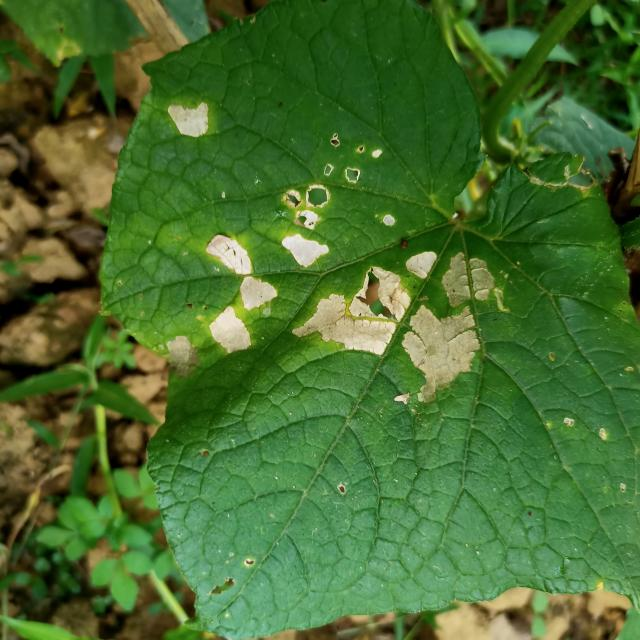disease_cucumber: (287, 242, 508, 413), (280, 134, 394, 272), (205, 216, 275, 366), (159, 96, 217, 146)
